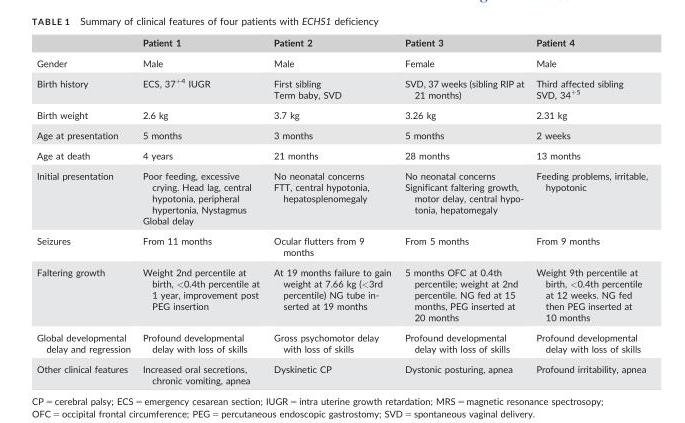table: (36, 36, 647, 384)
table column: (265, 36, 397, 384), (397, 36, 529, 384), (135, 36, 265, 384), (529, 36, 647, 384), (36, 36, 135, 384)
table column header: (36, 36, 647, 52)
table row: (36, 165, 647, 230), (36, 261, 647, 326), (36, 72, 647, 104), (36, 326, 647, 358), (36, 230, 647, 261), (36, 358, 647, 384), (36, 144, 647, 165), (36, 52, 647, 72), (36, 104, 647, 124), (36, 124, 647, 144), (36, 36, 647, 52)
